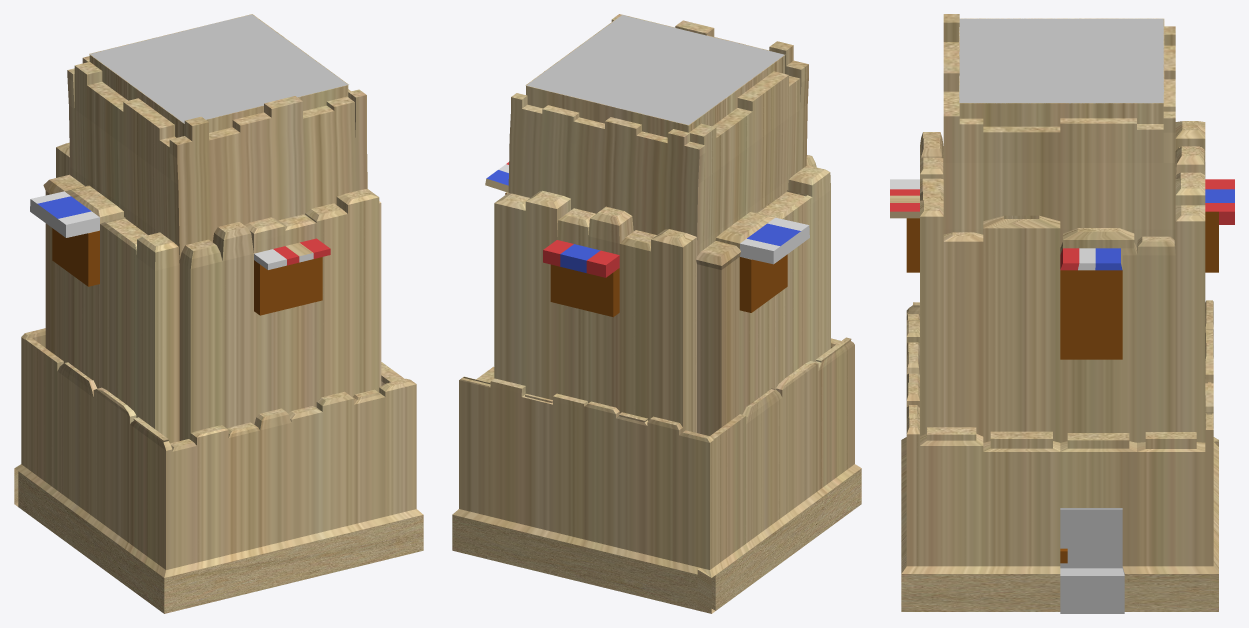
Rendered from temple5.fbx.
The picture shows the model from 3 angles, left to right: view 1: azimuth 30°, elevation 25°; view 2: azimuth 150°, elevation 25°; view 3: azimuth 270°, elevation 25°; orthographic projection. The views are drawn at different scales.
Parts seen in each view (by area): view 1: Cube; view 2: Cube; view 3: Cube.
Boxes of the visible parts, <box> form: Cube: <box>14,14,423,613</box>; Cube: <box>452,14,861,613</box>; Cube: <box>890,14,1234,613</box>.
Size of the model in its own units: 924 by 1370 by 876.
